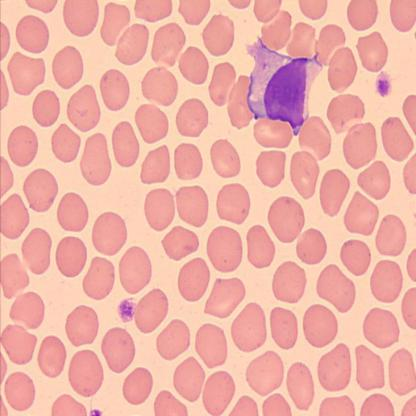Atypical lymphocyte: (246, 37, 325, 137)
